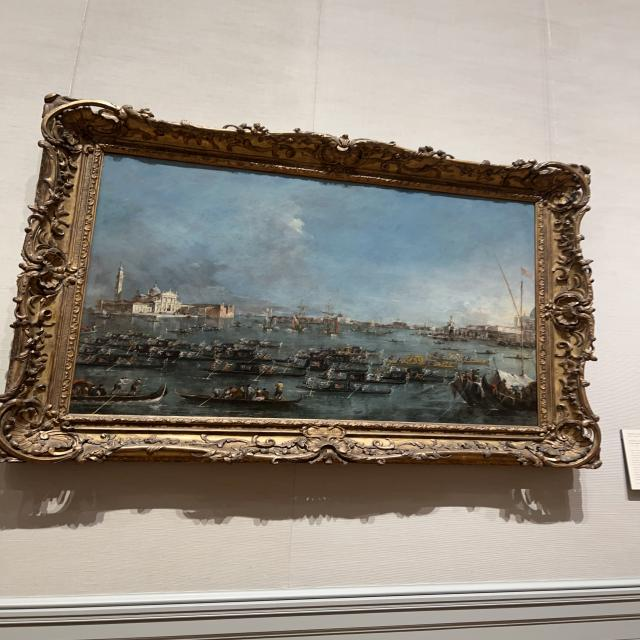ships: (69, 153, 540, 426)
